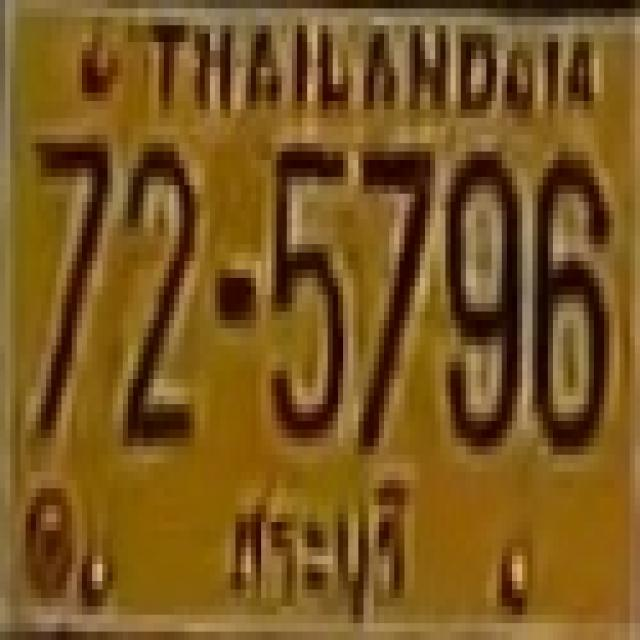2: (118, 139, 194, 442)
5: (266, 135, 343, 438)
6: (528, 143, 604, 446)
7: (31, 126, 108, 438), (358, 143, 430, 446)
9: (440, 143, 517, 446)
SRI: (216, 477, 418, 615)
